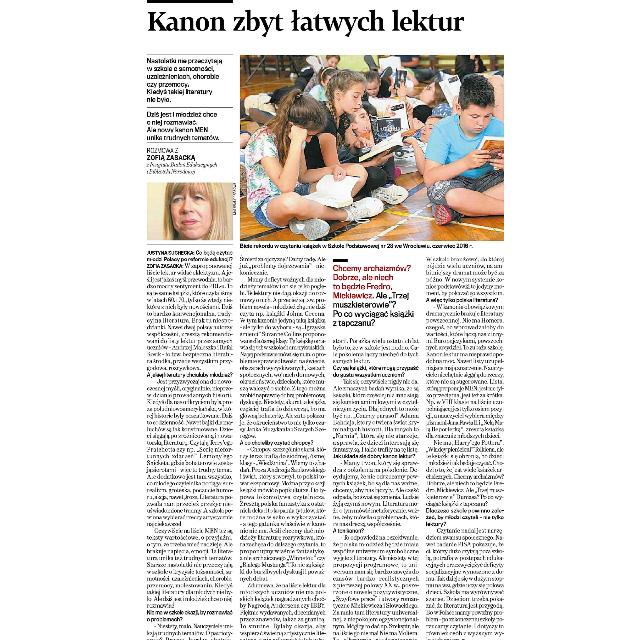body: (144, 248, 236, 640), (238, 255, 328, 640), (426, 255, 504, 640), (332, 334, 421, 640), (331, 254, 422, 332)
caption: (239, 243, 481, 251)
image: (238, 54, 504, 242), (144, 180, 236, 243)
lead: (145, 55, 231, 142)
title: (144, 8, 473, 38)
